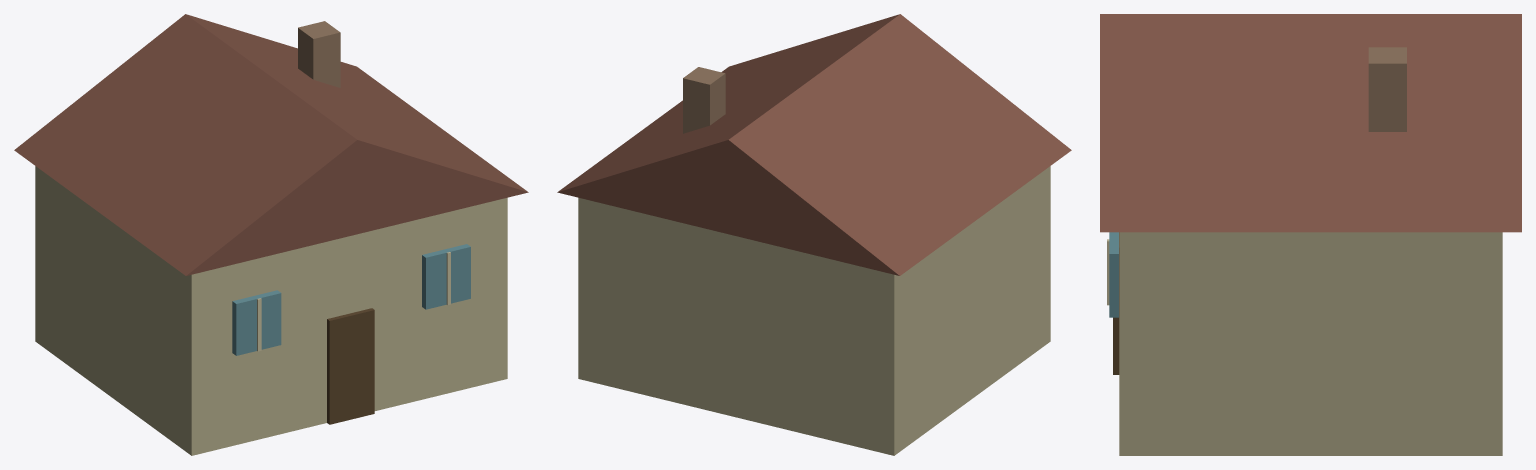
File: house.gltf
The picture shows the model from 3 angles, left to right: view 1: azimuth 30°, elevation 25°; view 2: azimuth 150°, elevation 25°; view 3: azimuth 270°, elevation 25°; orthographic projection. The views are drawn at different scales.
Bounding box in the file's own units: 7.6 × 6.1 × 6.6.
